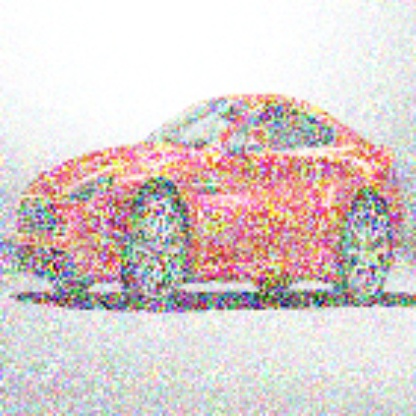Vehicle: (12, 86, 409, 308)
